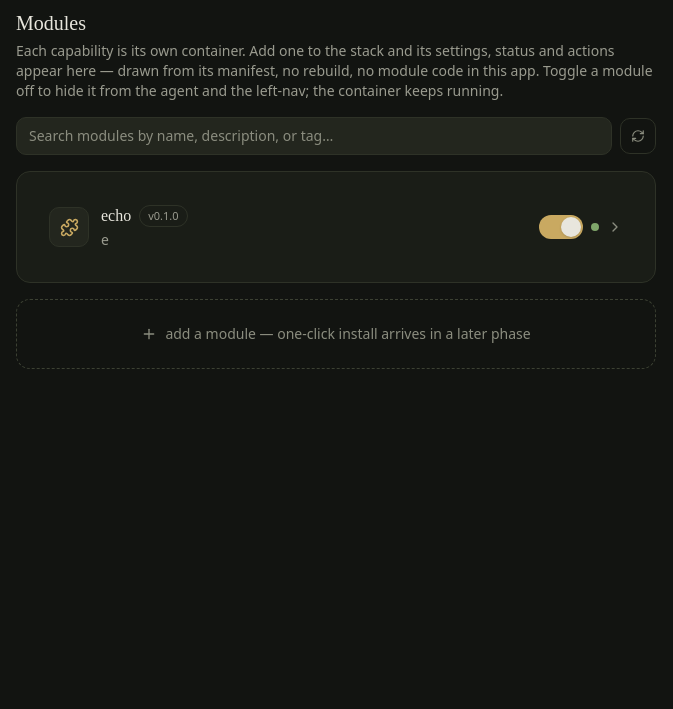
it: Modules page: an option gated on a provider key (#984) › never fetches the provider list for a module whose form has no gated option
Click the button named "expand".
click(615, 227)  # box left=607, top=219, right=623, bottom=235
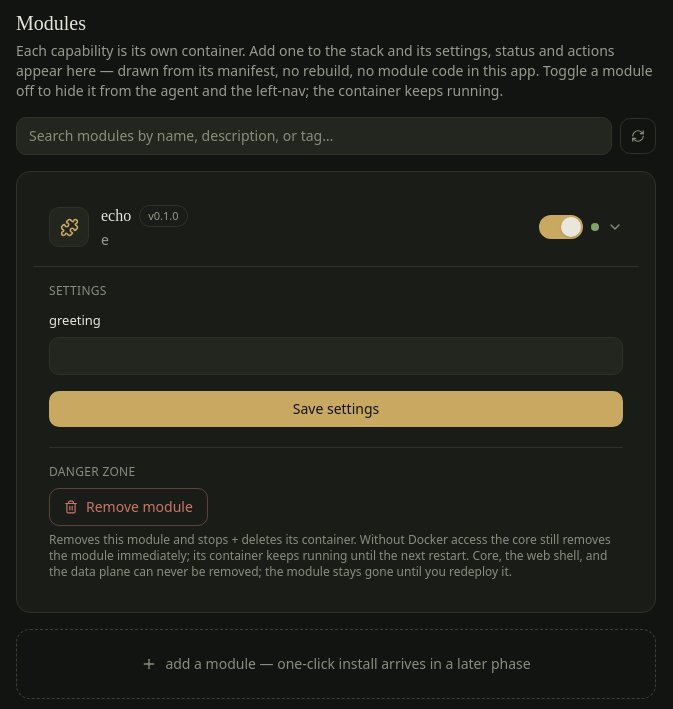
Expected: the button "Save settings" is shown, left=49, top=391, right=623, bottom=427
